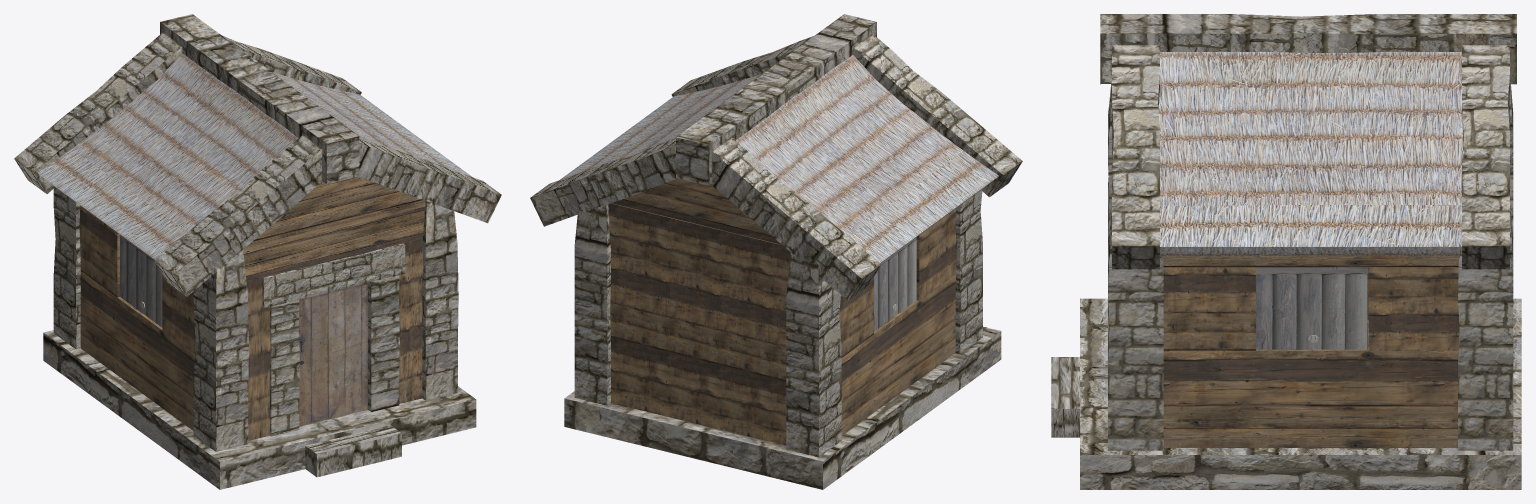
File: Cottage.obj
3 views of the same model, side by side, from view 1: azimuth 30°, elevation 25°; view 2: azimuth 150°, elevation 25°; view 3: azimuth 270°, elevation 25° (orthographic). The views are drawn at different scales.
Parts seen in each view (by area): view 1: Cube; view 2: Cube; view 3: Cube.
Boxes of the visible parts, x1,y1,x2,y2 form: Cube: [14, 14, 501, 489]; Cube: [530, 14, 1022, 489]; Cube: [1051, 14, 1521, 489].
Size of the model in its own units: 8.51 by 7.71 by 8.43.
5 materials, 5 textured.
